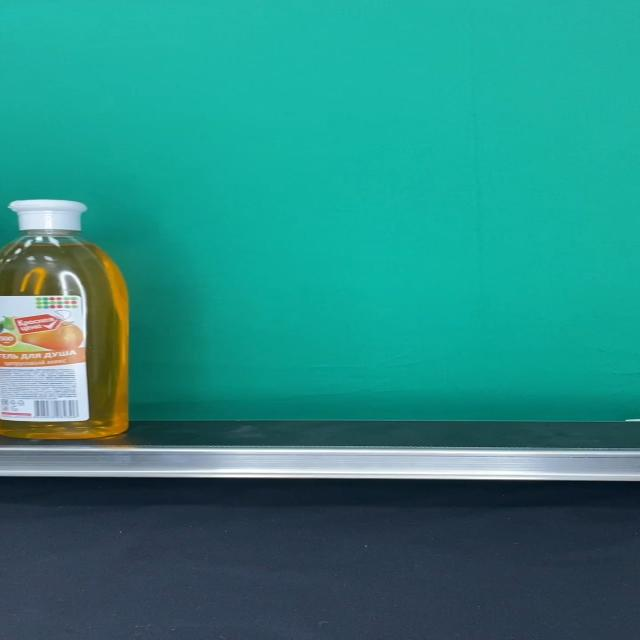Bottle: (0, 200, 131, 440)
Cap: (9, 200, 88, 232)
